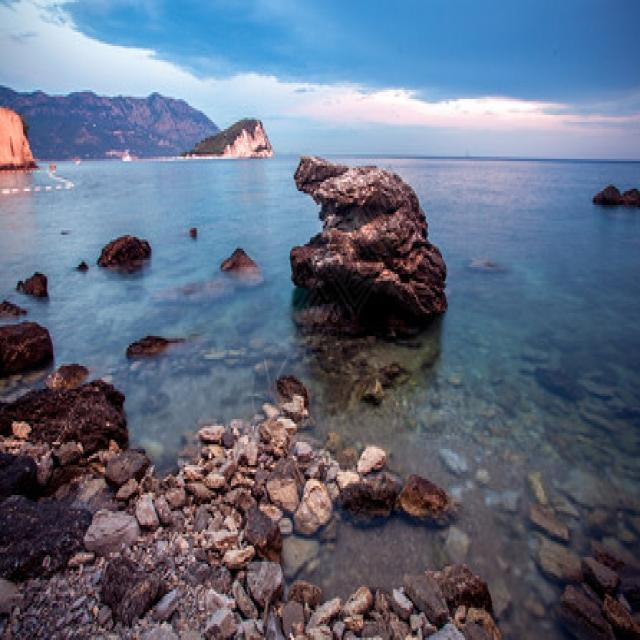island: (0, 50, 265, 177)
reef: (283, 136, 443, 330)
